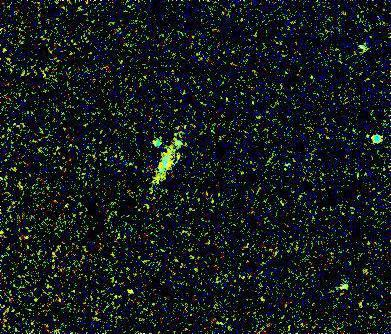star: (113, 276, 143, 306)
